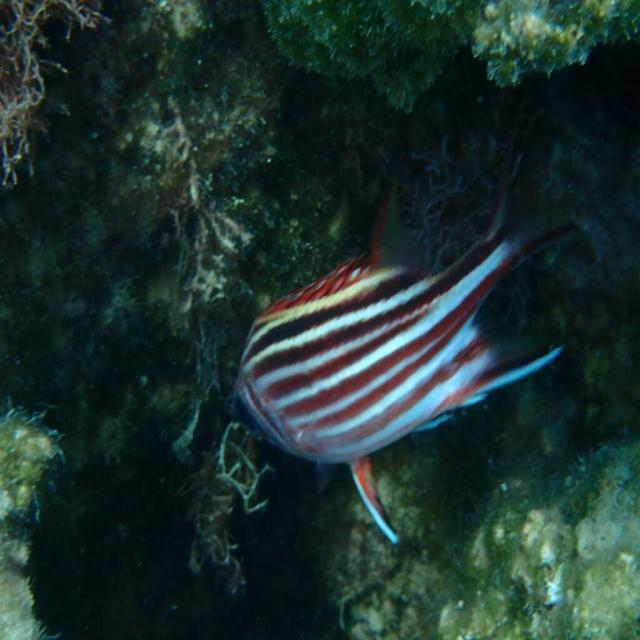Asker Baligi: (209, 238, 580, 550)
